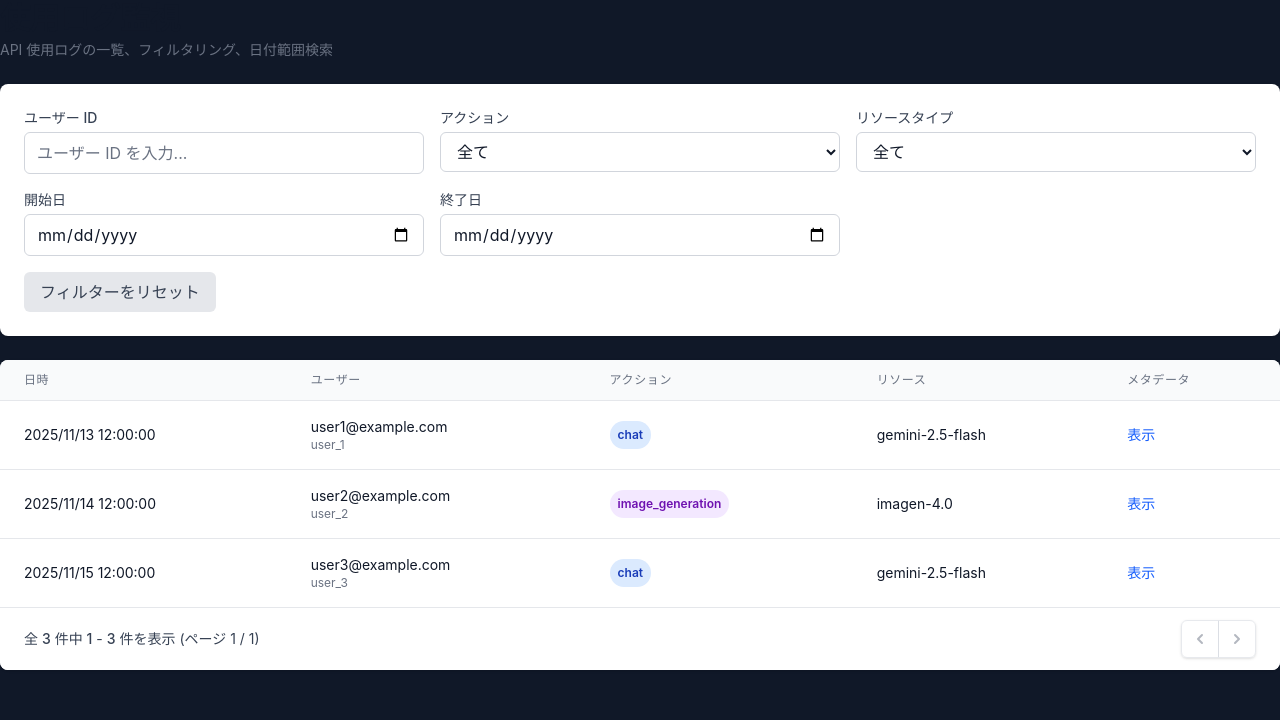
Test: Admin Usage Page › Metadata Expansion › should expand and collapse metadata on click
This screenshot has width=1280, height=720.
Expected: the text "user1@example.com" is shown, [311,418,448,435]
Click the button "表示" in the row of "2025/11/13 12:00:00" at x=1141, y=435, box [1127,425,1155,445]
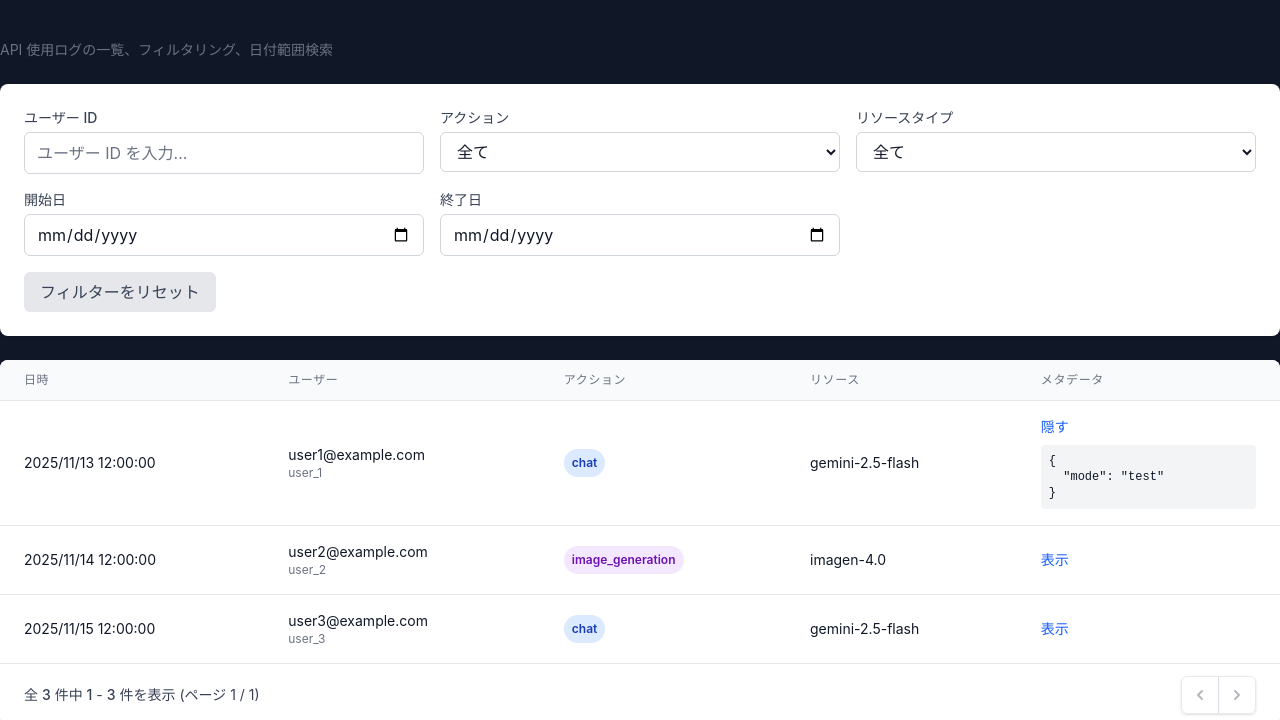
Expected: the text "{ \"mode\": \"test\" }" is shown, [1041,445,1256,509]
Click the button "隠す" at x=1055, y=427, box [1041,417,1069,437]
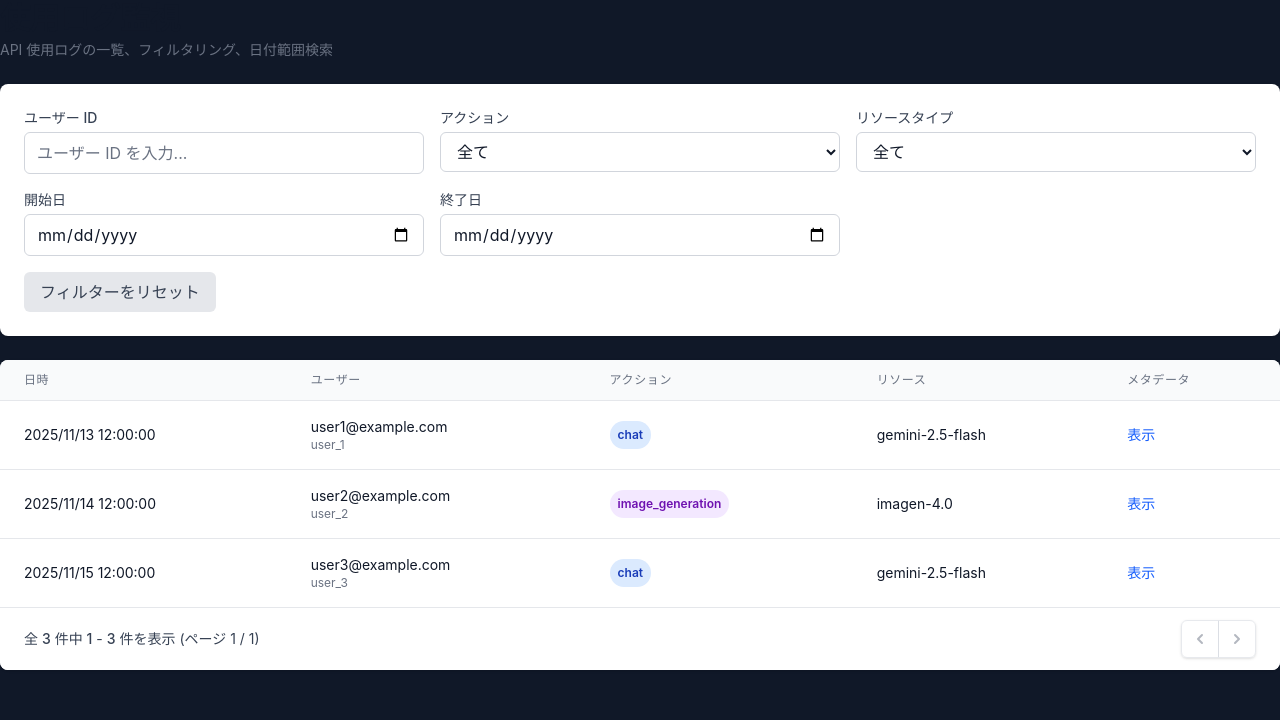
Expected: the text "\"mode\"" is gone
